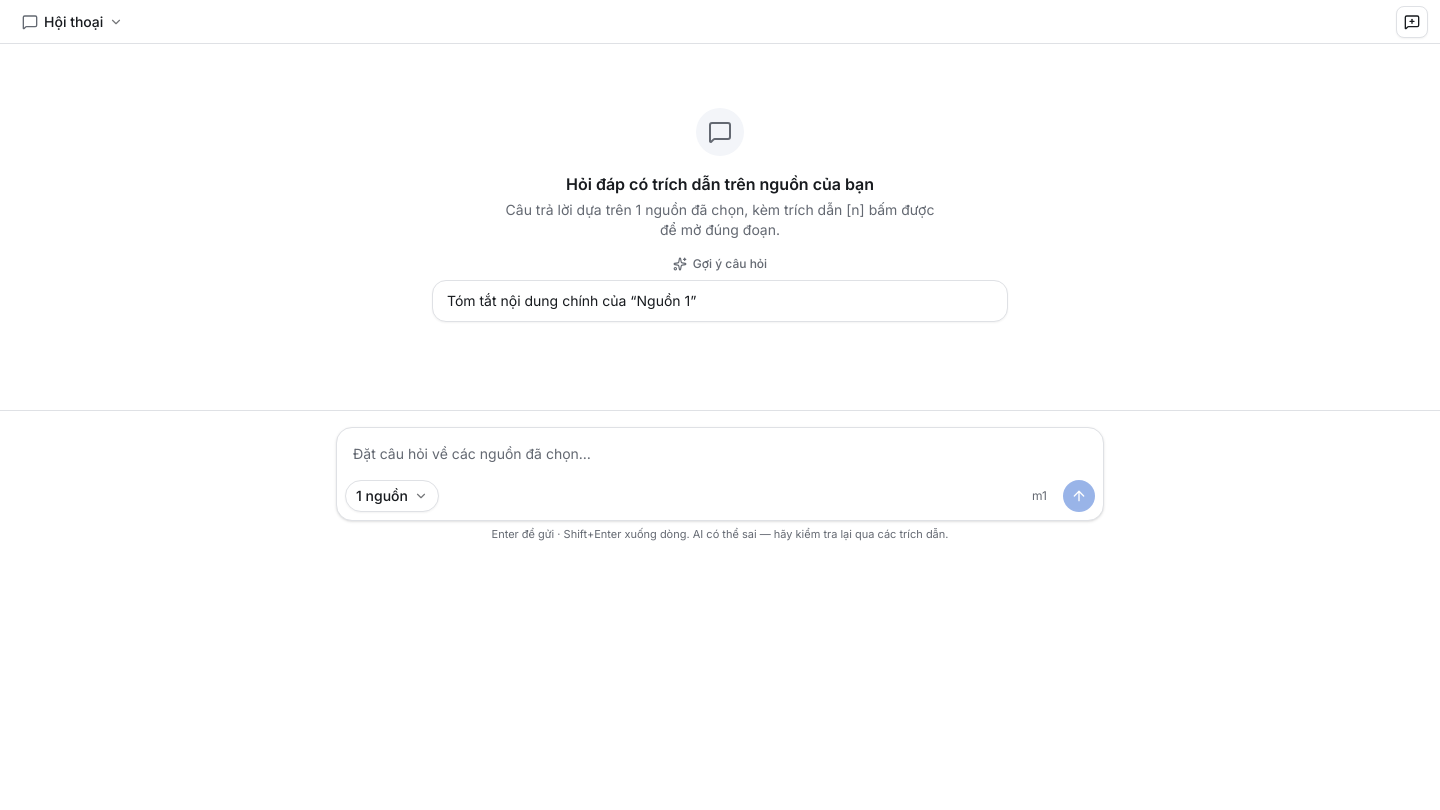
ChatPanel: dấu lỗi gửi câu hỏi + Thử lại › dấu lỗi biến mất khi gửi câu hỏi khác và khi chuyển sang hội thoại mới
Expected: the button with test id "scope-button" shows "1", [345,480,439,512]
Type "Câu A?" into the text box with test id "chat-input". click: (720, 456)
box: [345,436,1095,476]
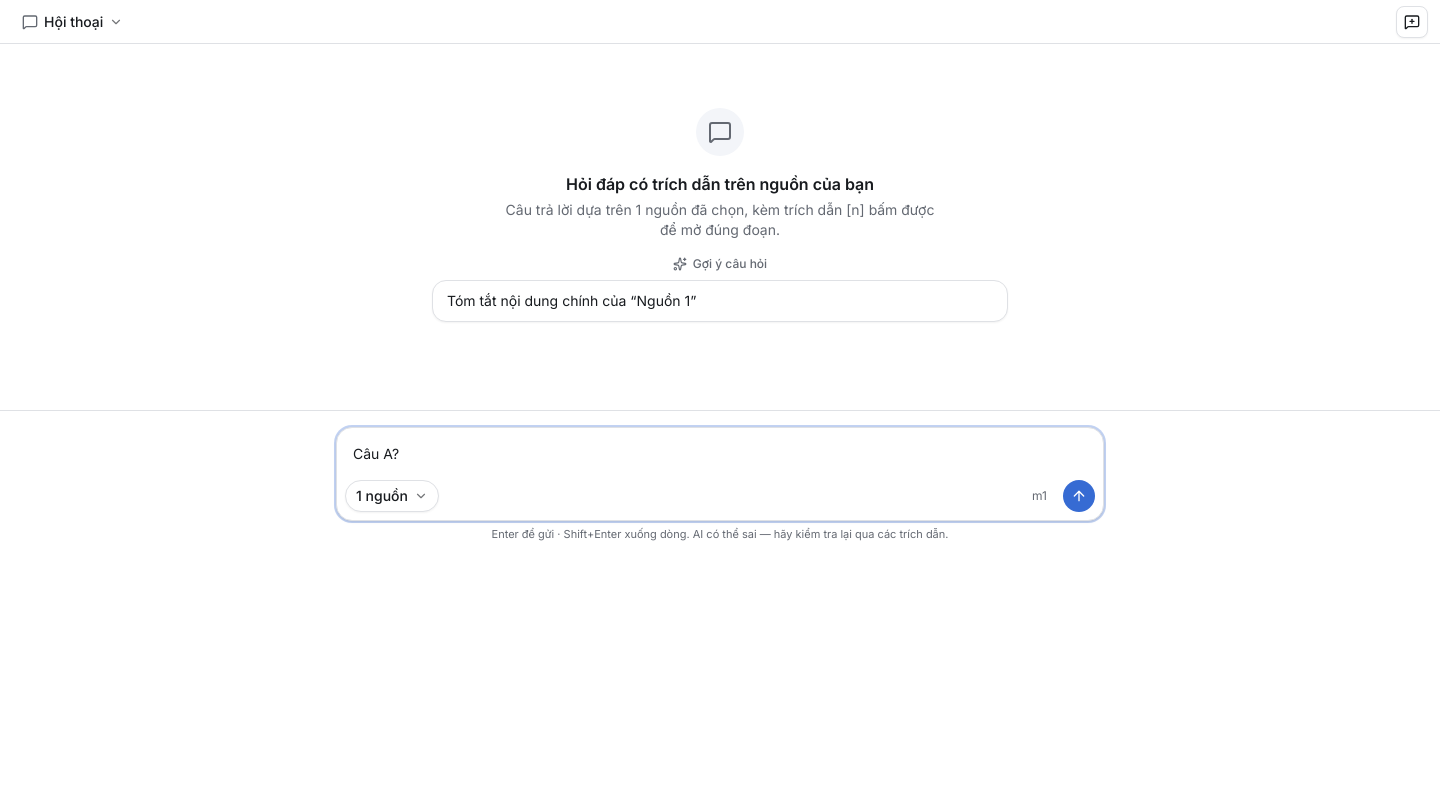
Click the button with test id "send-button". click: (1079, 496)
box: [1063,480,1095,512]
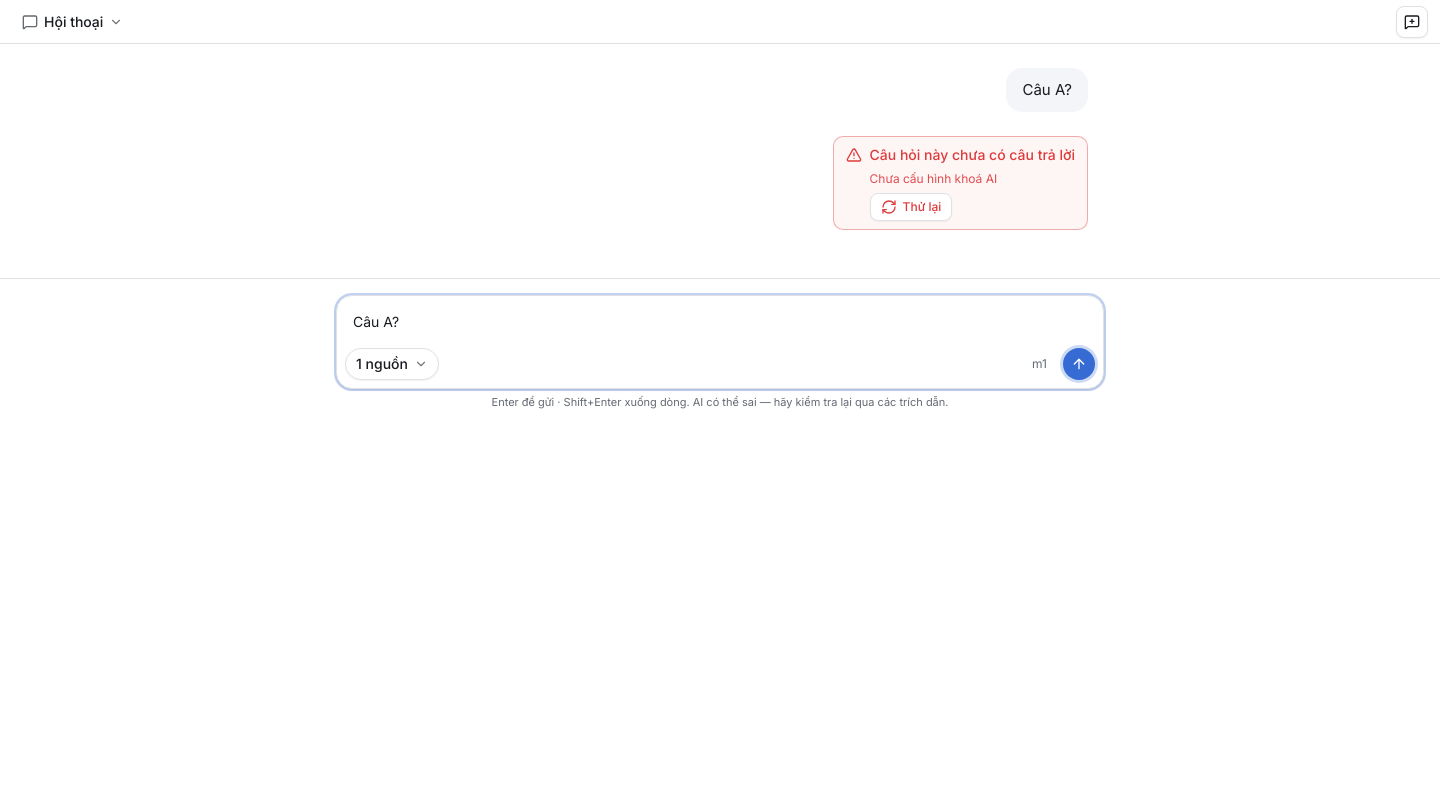
Now the message "Câu hỏi này chưa có câu trả lời Chưa cấu hình khoá AI Thử lại" is shown, box [833,136,1088,230]
Type "Câu B?" into the text box with test id "chat-input". click: (720, 324)
box: [345,304,1095,344]
Click the button with test id "send-button". click: (1079, 364)
box: [1063,348,1095,380]
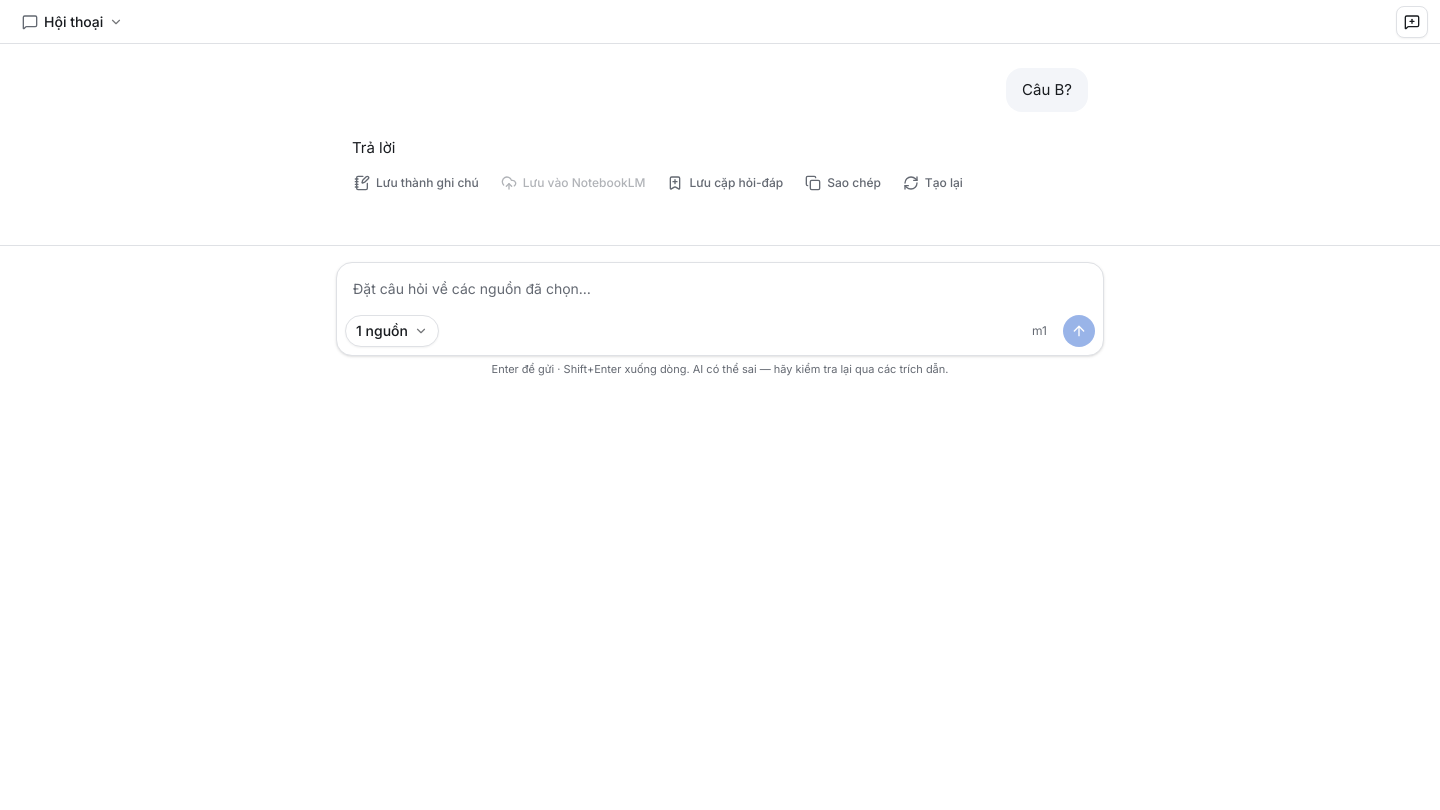
Now the number of elements with test id "user-message" is 1, box [1006,68,1088,112]
Now the element with test id "assistant-message" is shown, box [352,136,1088,197]
Now the message with test id "chat-send-error" is gone
Type "Câu C?" into the text box with test id "chat-input". click: (720, 291)
box: [345,271,1095,311]
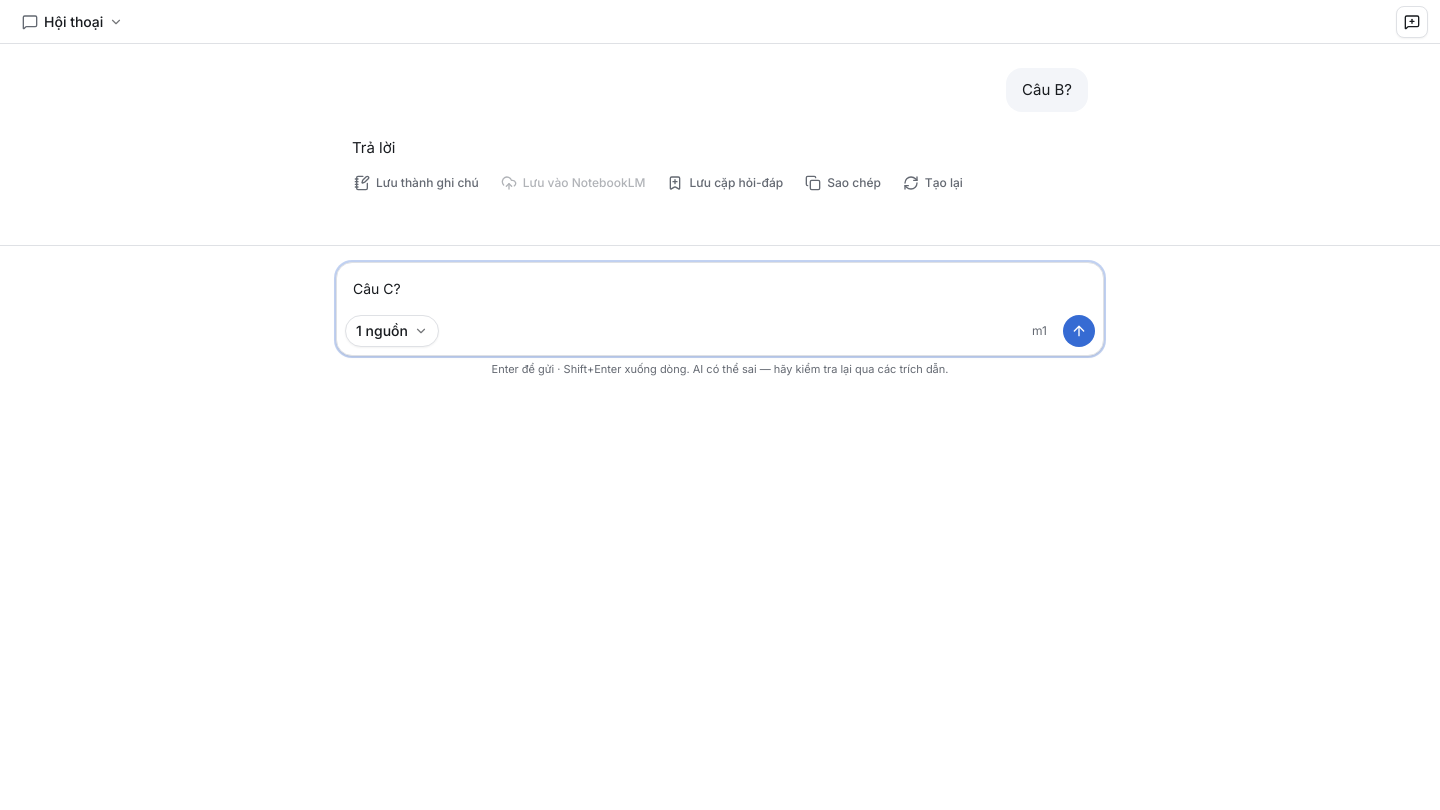
Click the button with test id "send-button". click: (1079, 331)
box: [1063,315,1095,347]
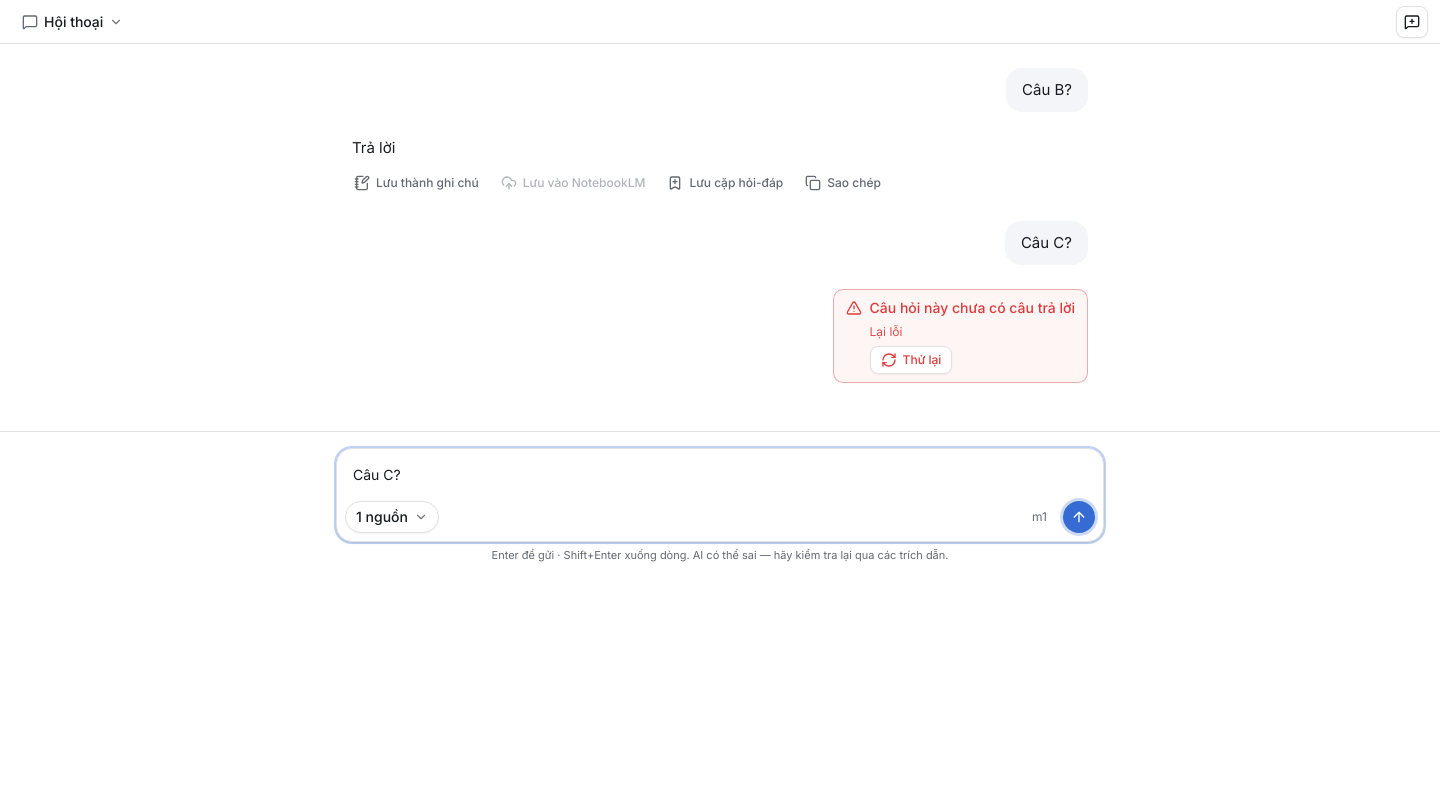
Now the message "Câu hỏi này chưa có câu trả lời Lại lỗi Thử lại" is shown, box [833,289,1088,383]
Click the button with test id "new-chat". click: (1412, 22)
box: [1396,6,1428,38]
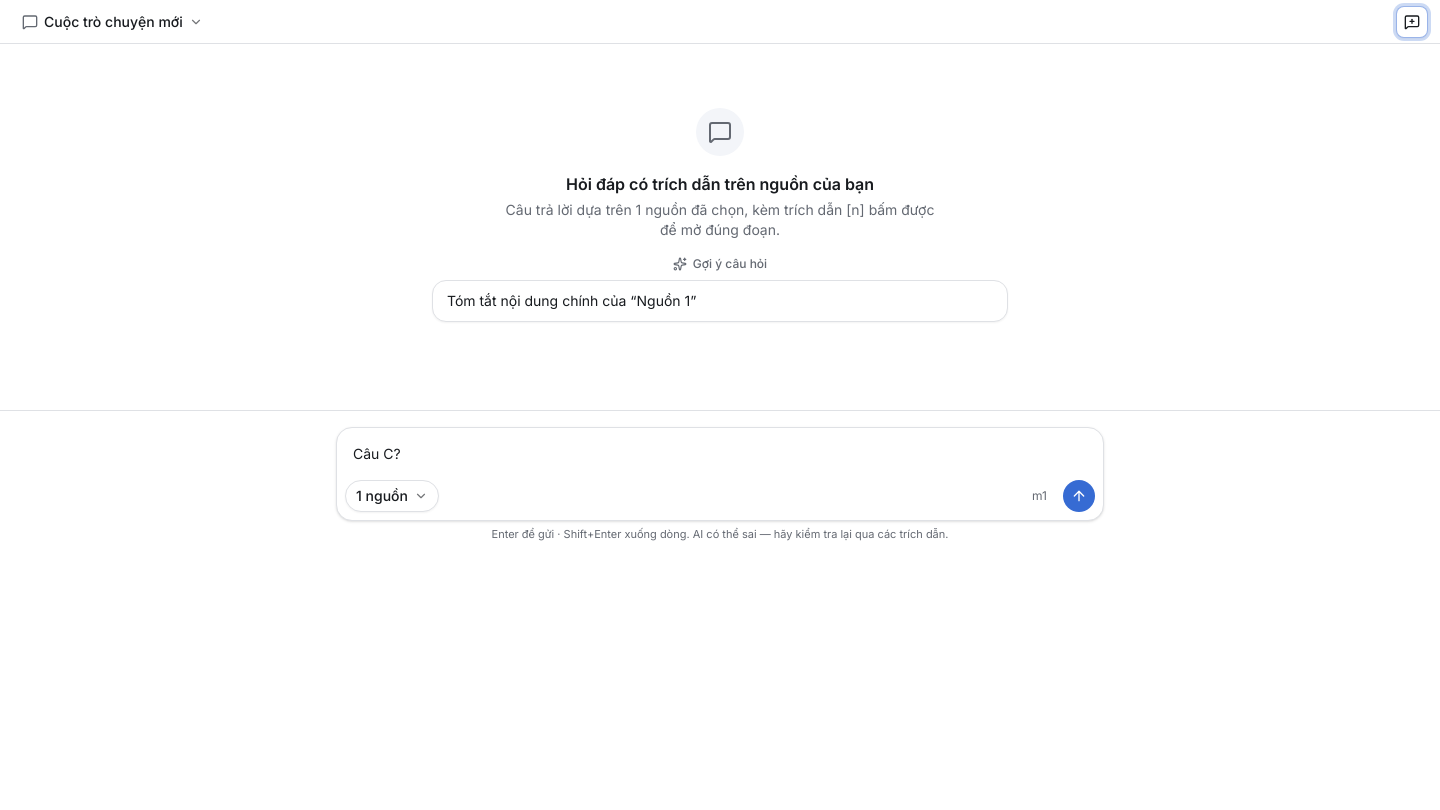
Now the message with test id "chat-send-error" is gone
Now the element with test id "user-message" is gone
